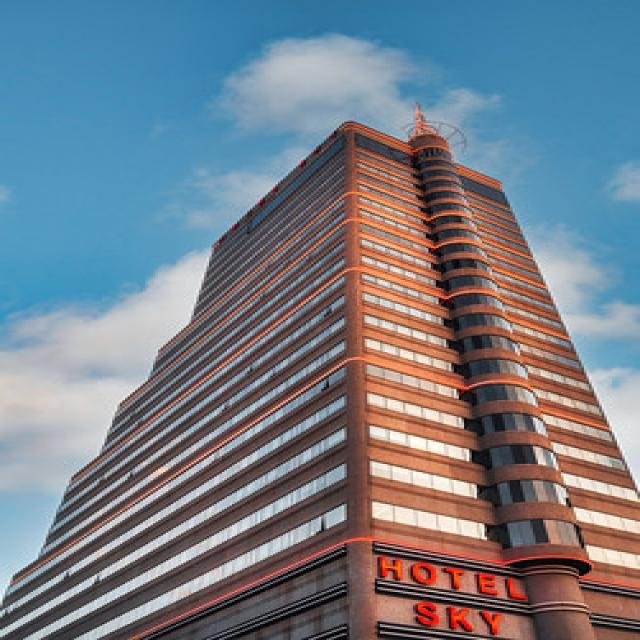Normal_building: (8, 101, 638, 640)
